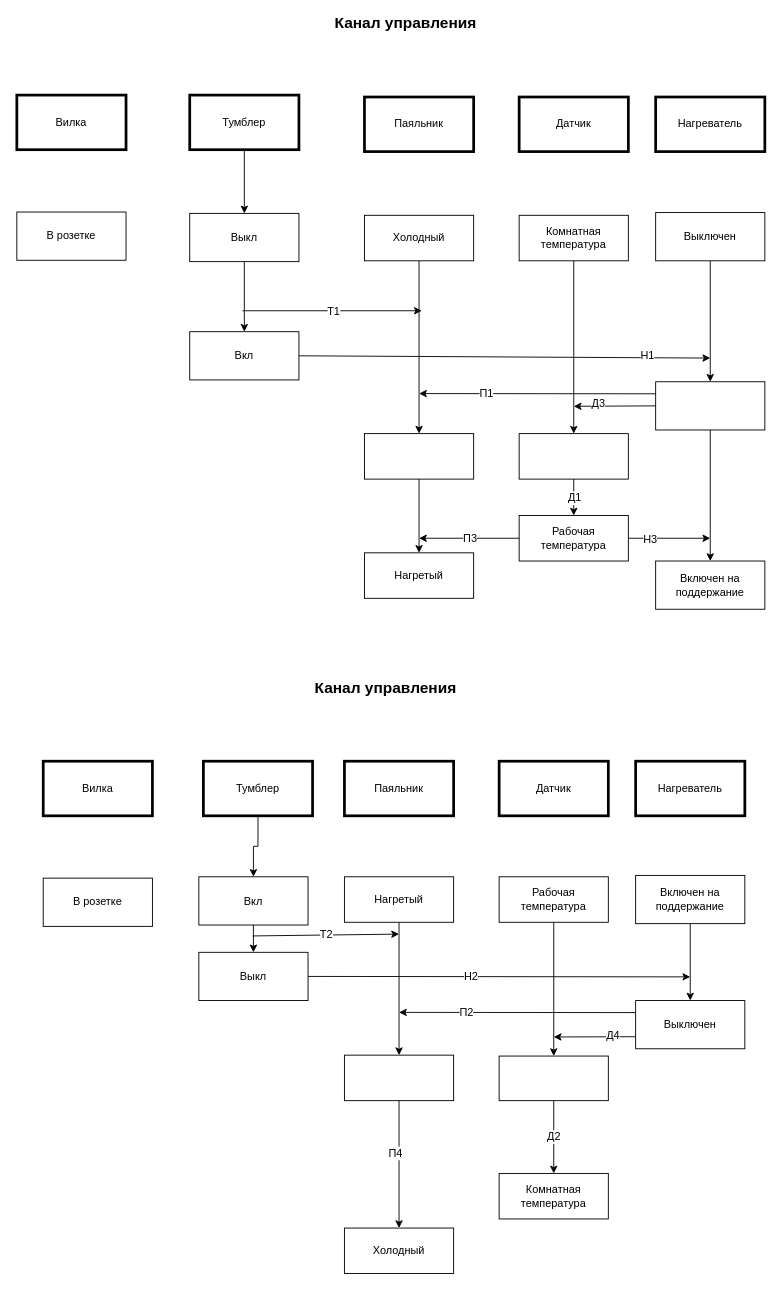
Some shapes in this 782 by 1290 pixel diagram are drawn without their labels. Here are the shapes that lost their labels. From the top down, the centre of each, then its label:
the point at 710,405: Включен на нагрев
the point at 419,456: Нагревается
the point at 573,456: Температура растет
the point at 399,1077: Остывает
the point at 553,1078: Температура понижается
